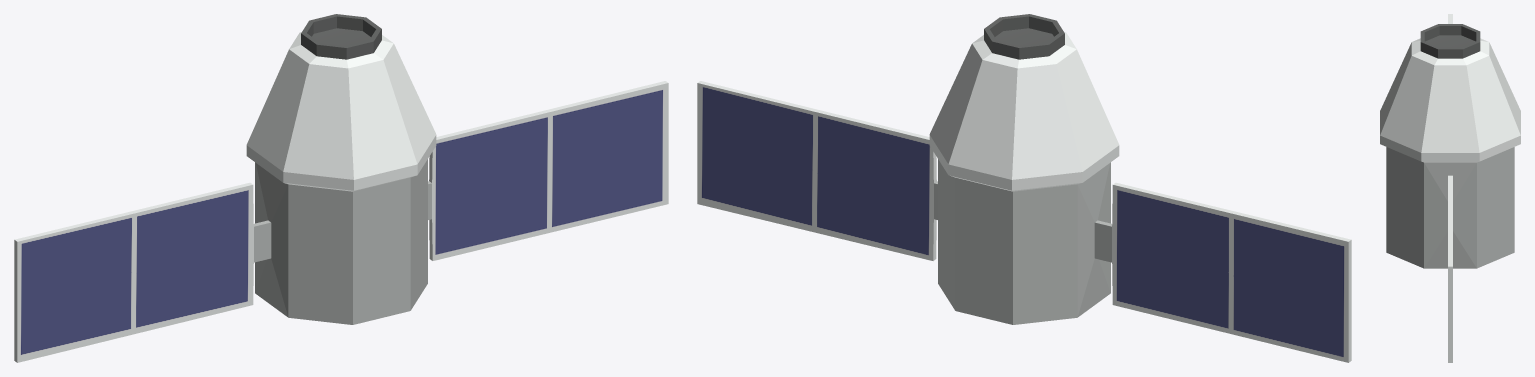
File: SpaceX.fbx
The picture shows the model from 3 angles, left to right: view 1: azimuth 30°, elevation 25°; view 2: azimuth 150°, elevation 25°; view 3: azimuth 270°, elevation 25°; orthographic projection. The views are drawn at different scales.
Visible parts, largest first — view 1: pCylinder1; view 2: pCylinder1; view 3: pCylinder1.
Part boxes in pixels (x1,y1,x2,y2): pCylinder1: [14, 14, 668, 362]; pCylinder1: [697, 14, 1351, 362]; pCylinder1: [1380, 14, 1520, 362].
Size of the model in its own units: 26.95 by 10.19 by 6.34.
Materials: 1 (1 with a texture image).
